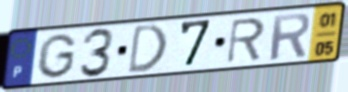3: (79, 26, 116, 79)
7: (179, 18, 213, 70)
D: (125, 22, 170, 76)
G: (34, 32, 79, 80)
R: (268, 11, 312, 63), (224, 16, 267, 65)
